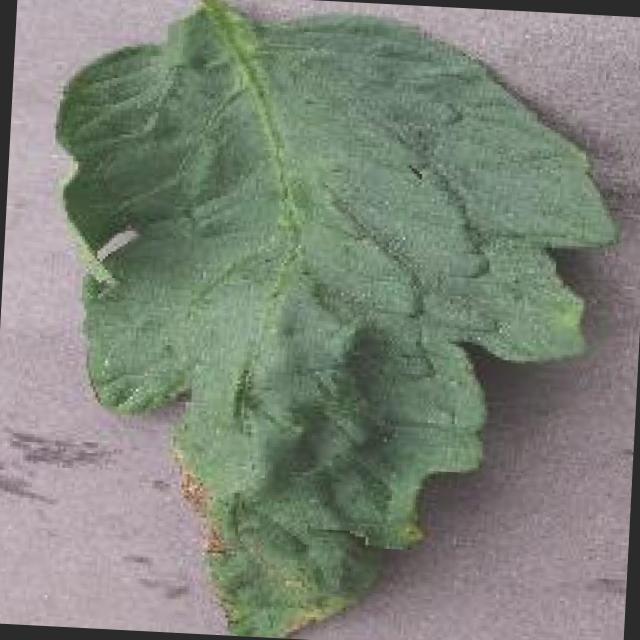bacterial spot: (51, 0, 616, 638)
